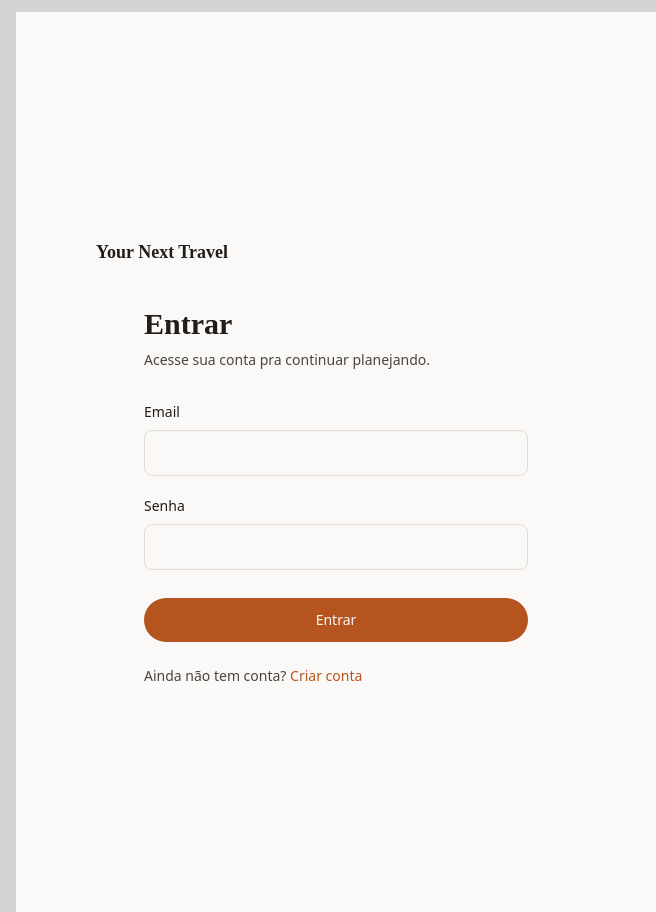
Test: auth flow › shows an inline error on invalid credentials
The image size is (656, 912).
Step 1. Type "ana@example.com" into the field labelled "Email" → (336, 453), box [144,430,528,476]
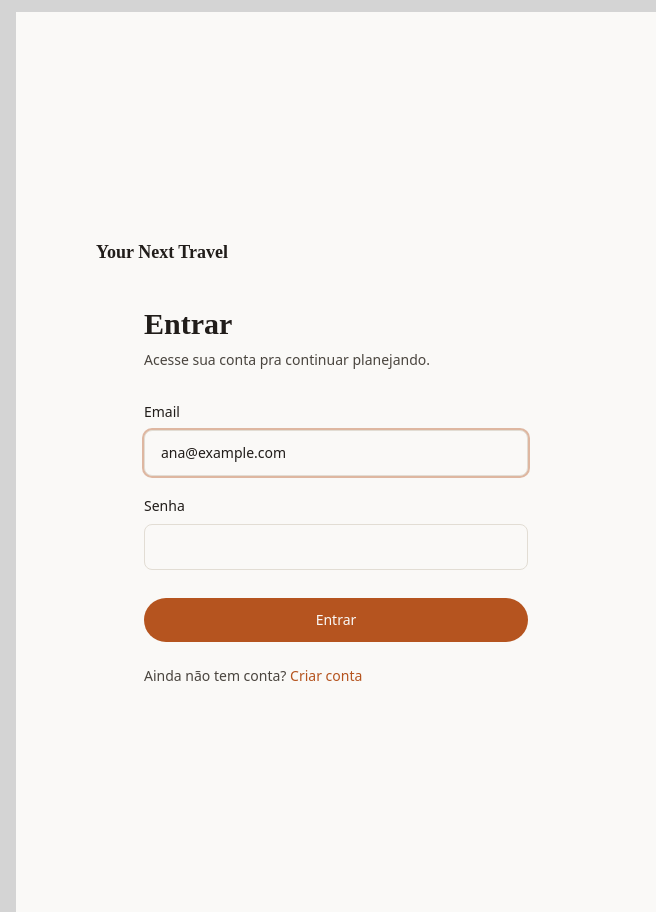
Step 2. Type "wrongpass" into the password field labelled "Senha" → (336, 547), box [144,524,528,570]
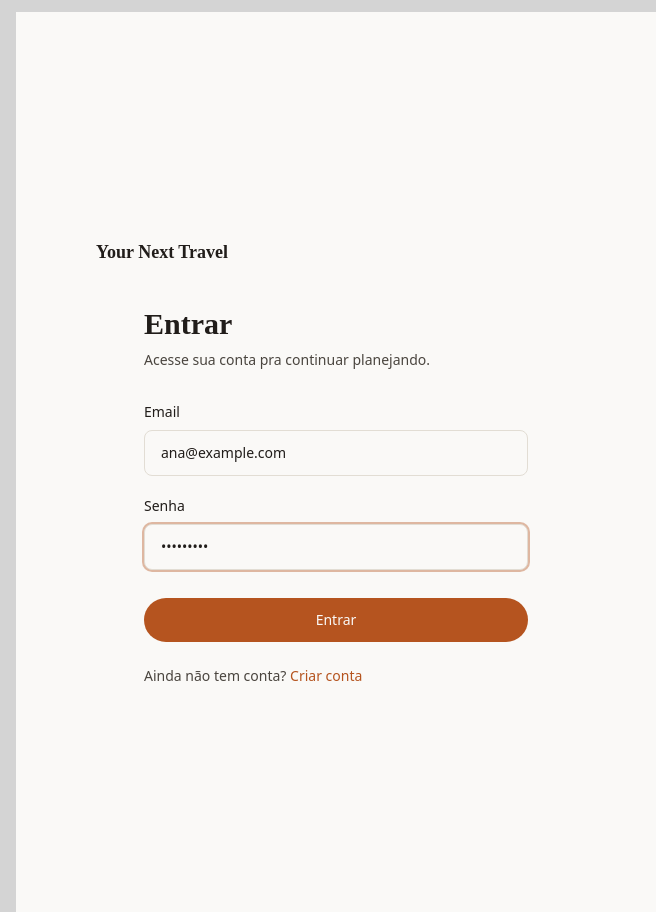
Step 3. Click the button "Entrar" → (336, 620), box [144,598,528,642]
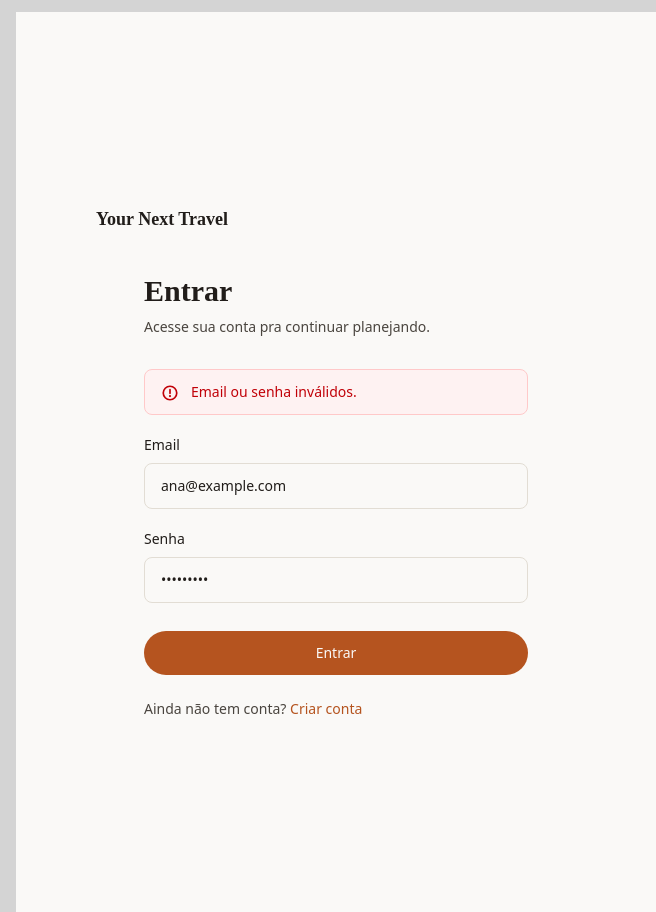
Check: the text "Email ou senha inválidos." is shown, box [191,382,357,402]
